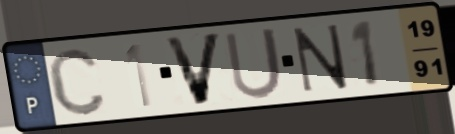1: (345, 17, 382, 91), (123, 42, 154, 108)
C: (44, 44, 110, 118)
N: (291, 22, 351, 95)
U: (222, 24, 286, 102)
V: (161, 30, 226, 108)
